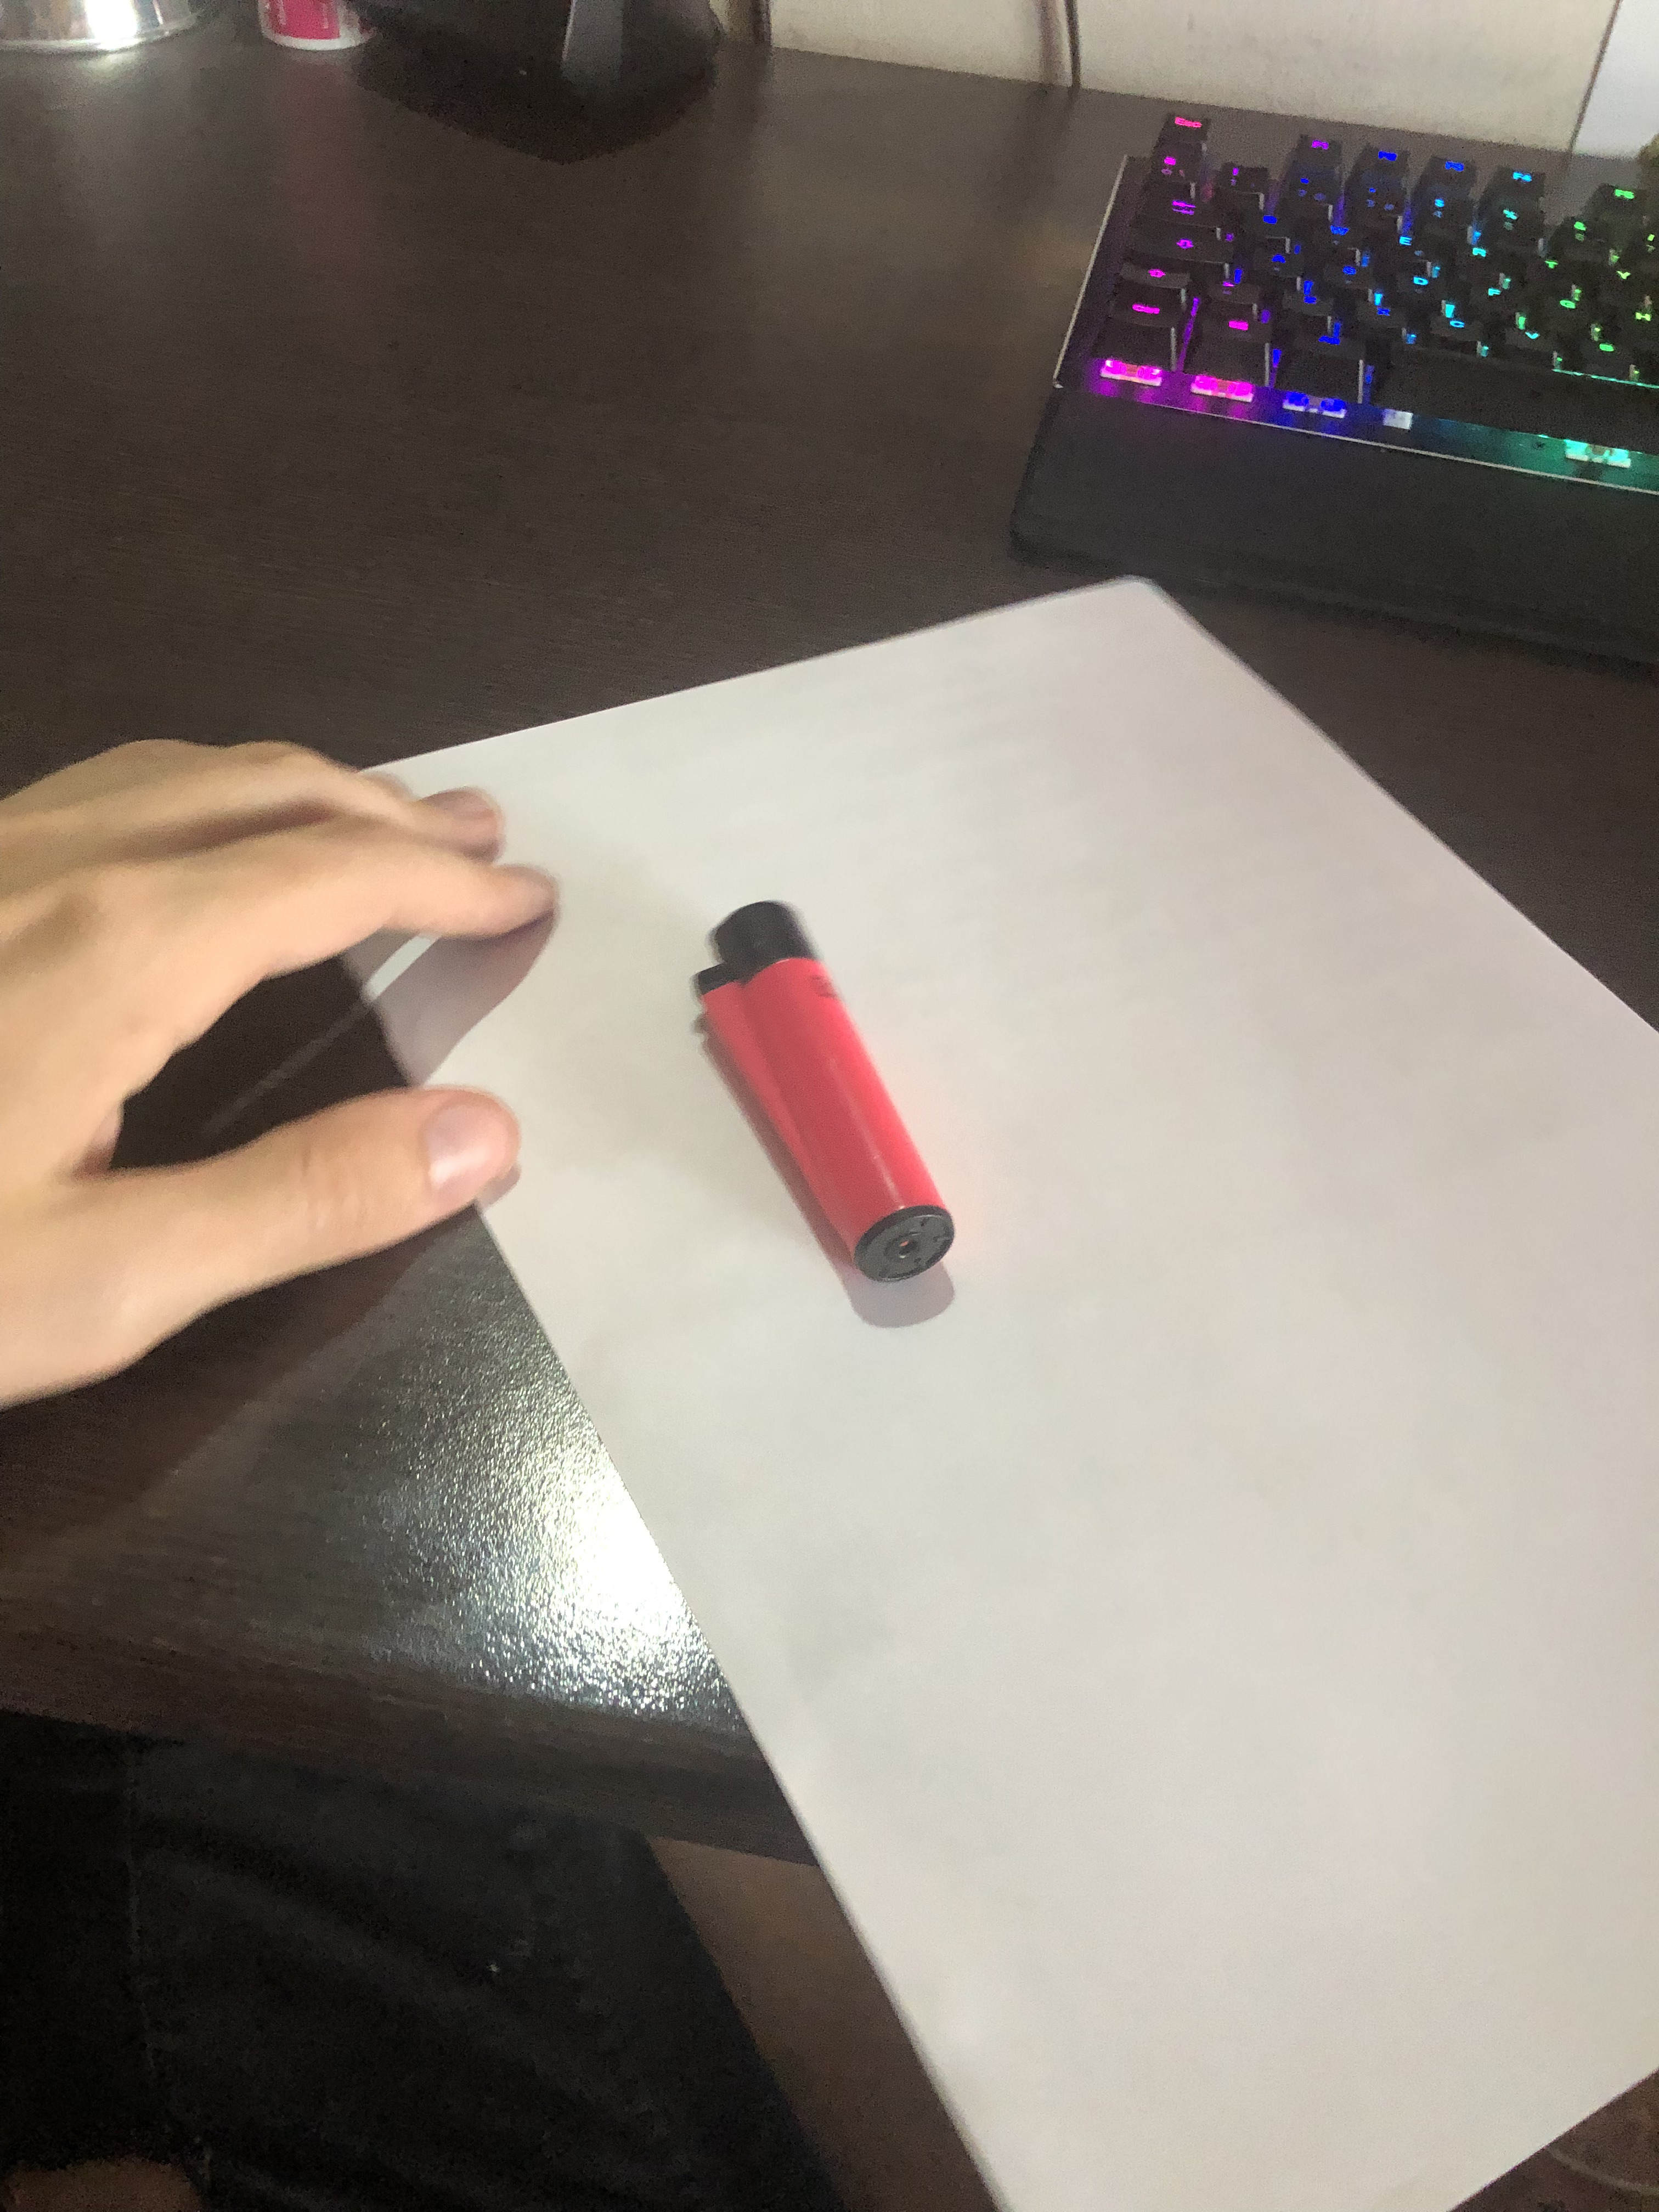Mechero: (690, 907, 983, 1312)
